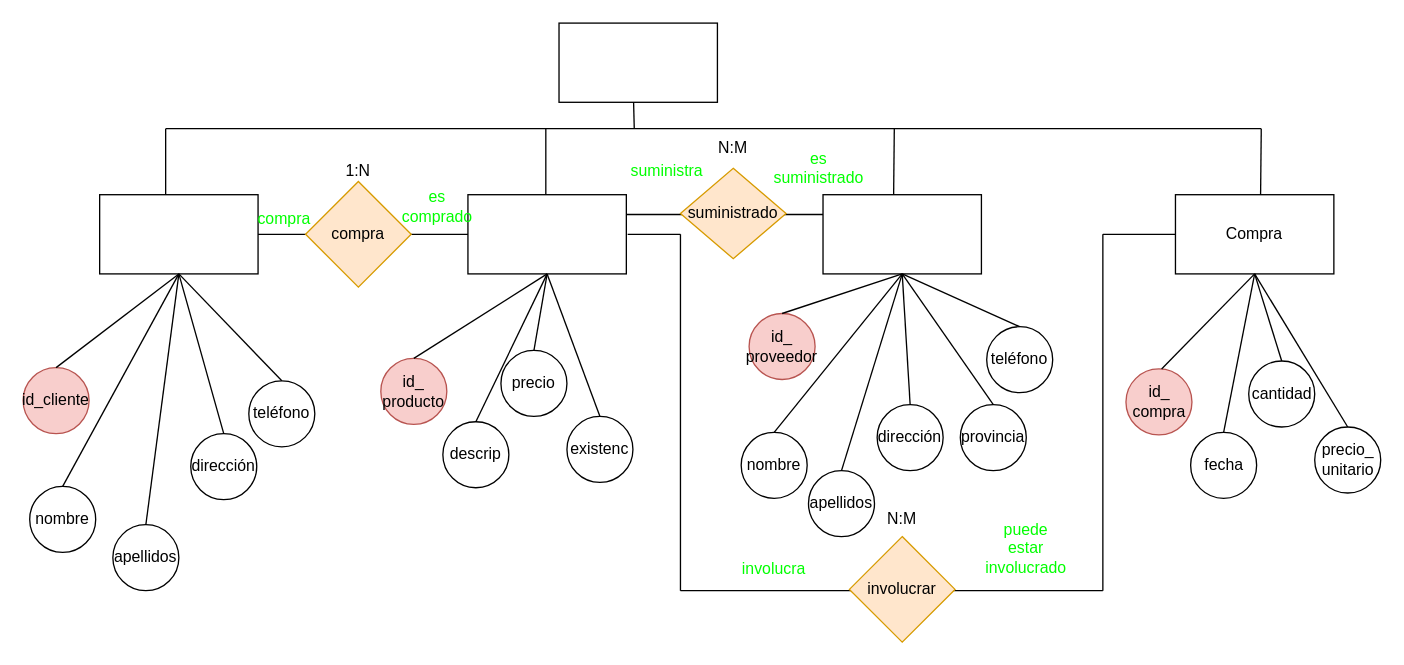
Image size: 1404x665. Some labels were removed from this diagram. Here are the shapes that lost their labels. From the top down, the box of each, then its label:
(558, 22, 717, 102): base_datos_ gestión_de_tienda_ informática
(98, 193, 258, 274): Cliente
(467, 193, 626, 274): Producto
(822, 193, 981, 274): Proveedor
